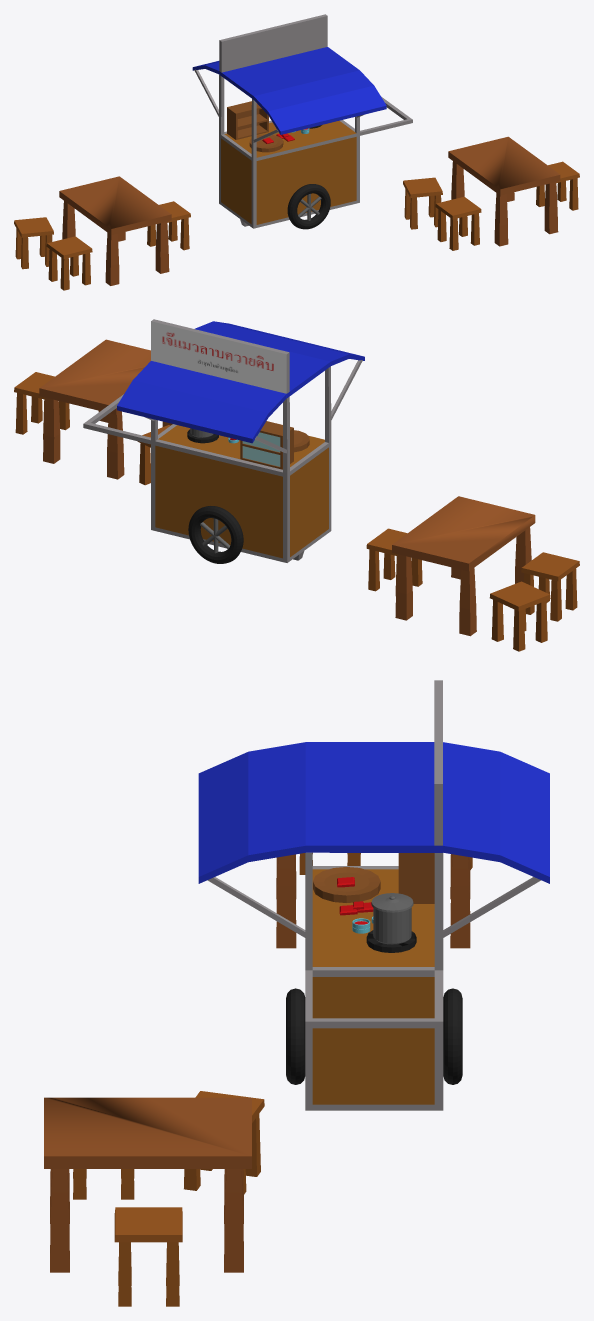
Rendered from ShopFinal.fbx.
3 renders of one model, top to bottom at view 1: azimuth 30°, elevation 25°; view 2: azimuth 150°, elevation 25°; view 3: azimuth 270°, elevation 25°, orthographic. The views are drawn at different scales.
Visible parts, largest first — view 1: Cube, Cube.011, Cube.024, Cylinder.001, Cube.001, Cube.015, Cube.020, Cube.016, Cube.019, Cube.021, Cube.012, Cube.014 (+4 smaller); view 2: Cube, Cube.011, Cube.024, Cylinder.001, Cube.001, Cube.016, Cube.015, Cube.023, Cube.012, Cube.017, Cube.014, Cube.022 (+2 smaller); view 3: Cube, Cube.024, Cylinder.001, Cube.011, Cube.022, Cylinder, Cube.023, Cube.001, Cylinder.003, Cube.019, Cube.020.
Part boxes in pixels (x1,y1,x2,y2): Cube: (192, 14, 412, 228); Cube.011: (59, 176, 171, 285); Cube.024: (448, 136, 560, 246); Cylinder.001: (287, 184, 330, 229); Cube.001: (227, 101, 268, 139); Cube.015: (48, 249, 90, 290); Cube.020: (437, 209, 479, 250); Cube.016: (15, 228, 52, 269); Cube.019: (404, 189, 441, 229); Cube.021: (435, 196, 481, 219); Cube.012: (147, 217, 189, 250); Cube.014: (46, 236, 92, 258); Cube: (83, 319, 364, 562); Cube.011: (392, 496, 535, 636); Cube.024: (39, 339, 171, 479); Cylinder.001: (188, 506, 243, 563); Cube.001: (240, 421, 293, 469); Cube.016: (491, 600, 547, 651); Cube.015: (524, 568, 577, 621); Cube.023: (15, 393, 69, 439); Cube.012: (368, 549, 422, 595); Cube.017: (489, 581, 550, 611); Cube.014: (521, 552, 579, 581); Cube.022: (14, 372, 54, 399); Cube: (198, 680, 549, 1110); Cube.024: (44, 1097, 251, 1272); Cylinder.001: (286, 988, 462, 1084); Cube.011: (276, 854, 470, 948); Cube.022: (114, 1207, 182, 1242); Cylinder: (313, 867, 380, 902); Cube.023: (118, 1242, 179, 1306); Cube.001: (398, 853, 434, 903); Cylinder.003: (373, 908, 411, 944); Cube.019: (184, 1114, 260, 1194); Cube.020: (73, 1169, 134, 1199).
Bounding box in the file's own units: 1808 × 642 × 824.
Materials: 27 (1 with a texture image).
